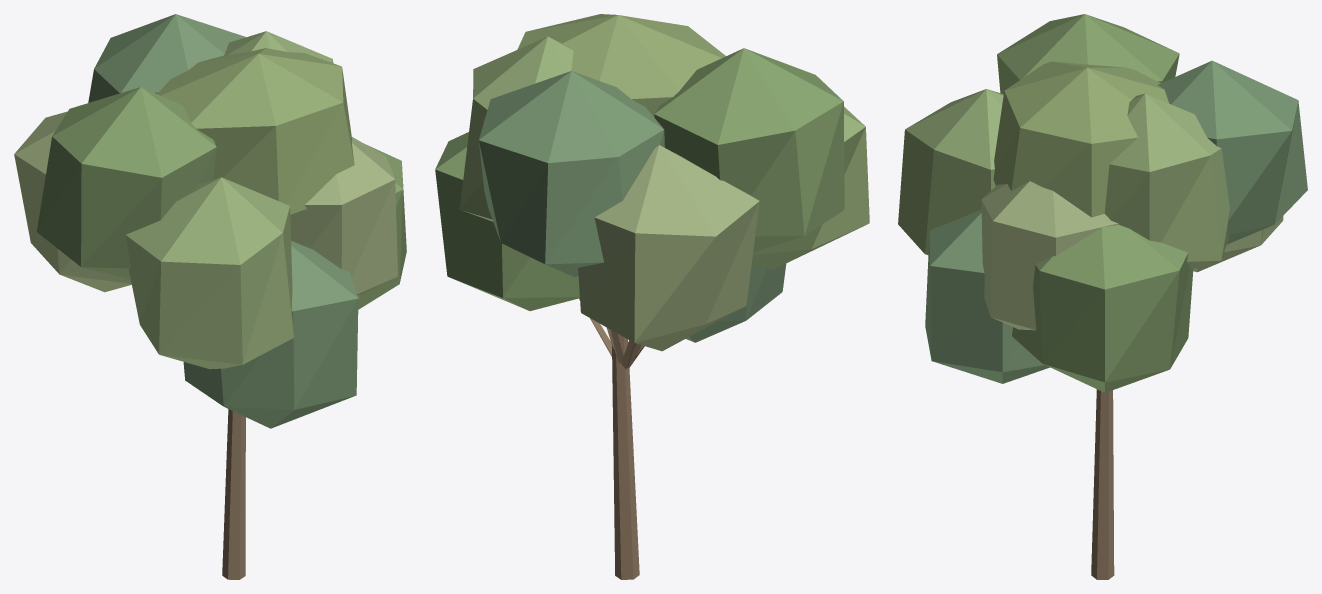
3 renders of one model, left to right at view 1: azimuth 30°, elevation 25°; view 2: azimuth 150°, elevation 25°; view 3: azimuth 270°, elevation 25°, orthographic. The views are drawn at different scales.
Bounding box in the file's own units: 9.16 × 12.85 × 9.25.
